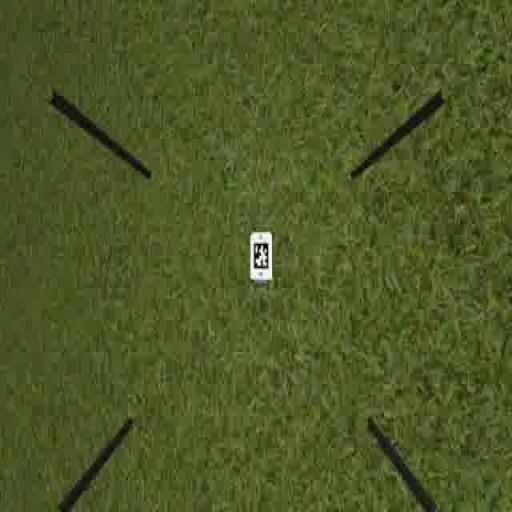UGV: (247, 228, 275, 288)
